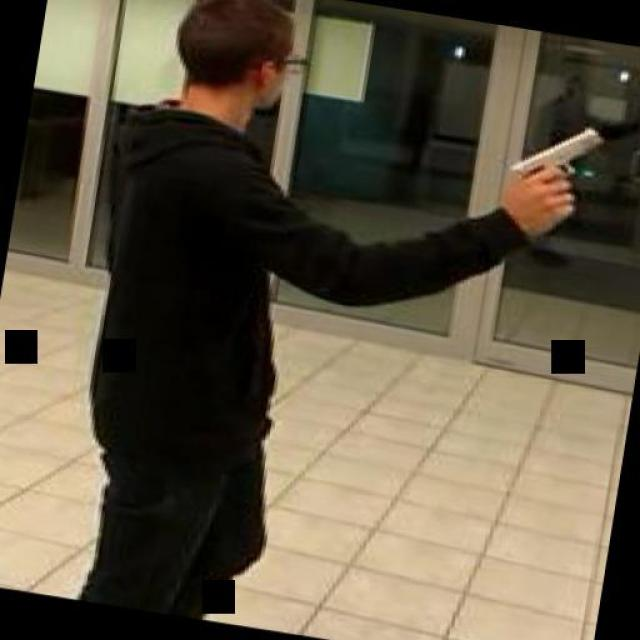gun: (500, 110, 602, 218)
